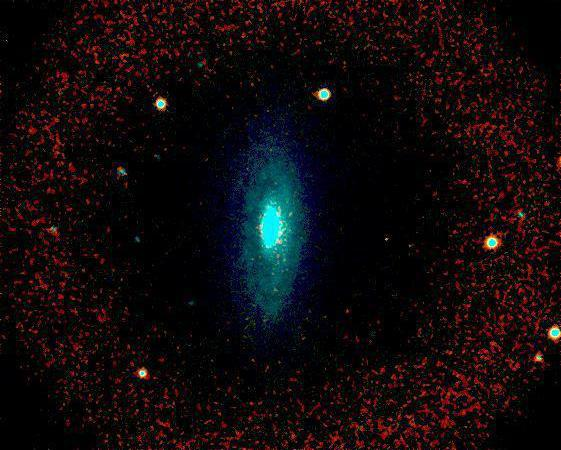star: (371, 223, 401, 253)
